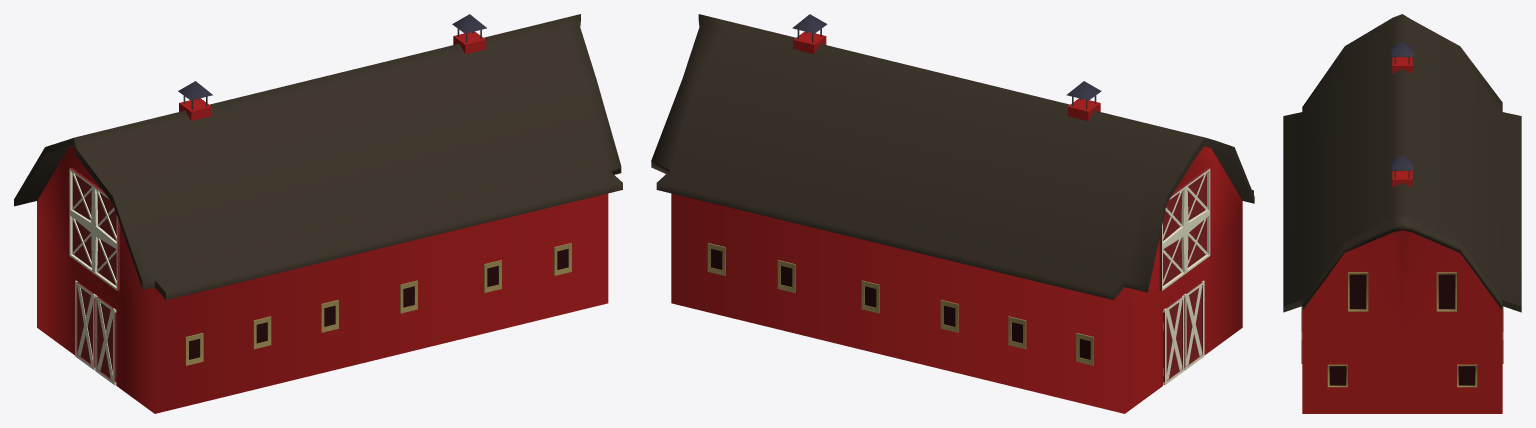
Rendered from Granero.FBX.
3 views of the same model, side by side, from view 1: azimuth 30°, elevation 25°; view 2: azimuth 150°, elevation 25°; view 3: azimuth 270°, elevation 25° (orthographic). The views are drawn at different scales.
Visible parts, largest first — view 1: Granero; view 2: Granero; view 3: Granero.
Boxes of the visible parts, box(x1,y1,x2,y2) form: Granero: box(14, 14, 622, 413); Granero: box(651, 14, 1254, 413); Granero: box(1283, 14, 1521, 413).
Bounding box in the file's own units: 113 × 55.99 × 53.61.
